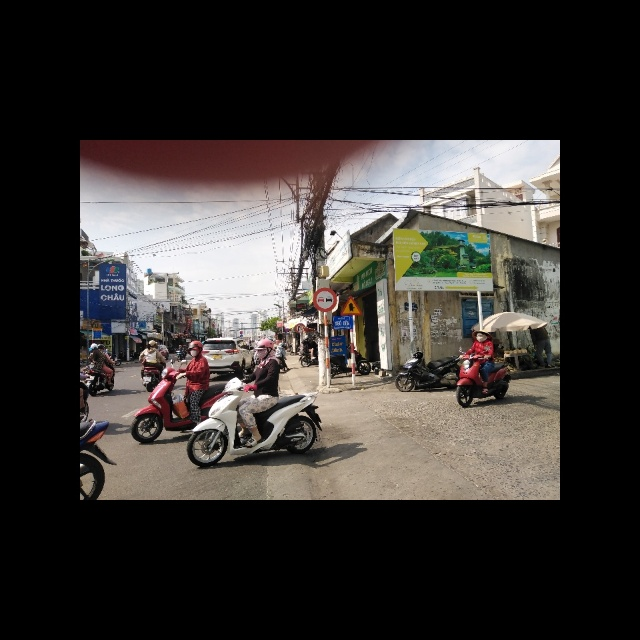Cấm vượt: (313, 287, 338, 311)
Giao nhau với đường không ưu tiên: (340, 293, 363, 316)
